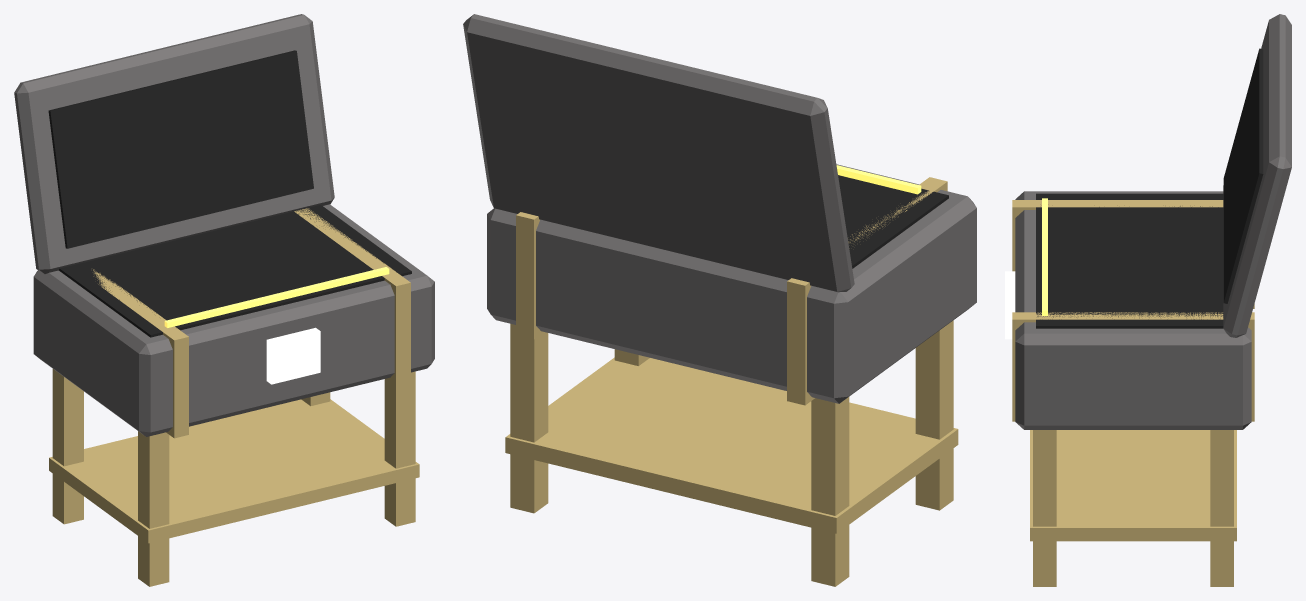
The picture shows the model from 3 angles, left to right: view 1: azimuth 30°, elevation 25°; view 2: azimuth 150°, elevation 25°; view 3: azimuth 270°, elevation 25°; orthographic projection. The views are drawn at different scales.
Parts seen in each view (by area): view 1: lt_box_wk; view 2: lt_box_wk; view 3: lt_box_wk.
Part boxes in pixels (x1,y1,x2,y2): lt_box_wk: [14, 14, 434, 586]; lt_box_wk: [463, 14, 976, 586]; lt_box_wk: [1005, 14, 1291, 586].
Bounding box in the file's own units: 1.2 × 1.62 × 0.9712.
